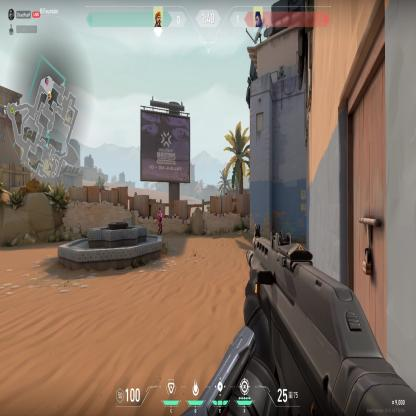enemy: (157, 206, 162, 235)
